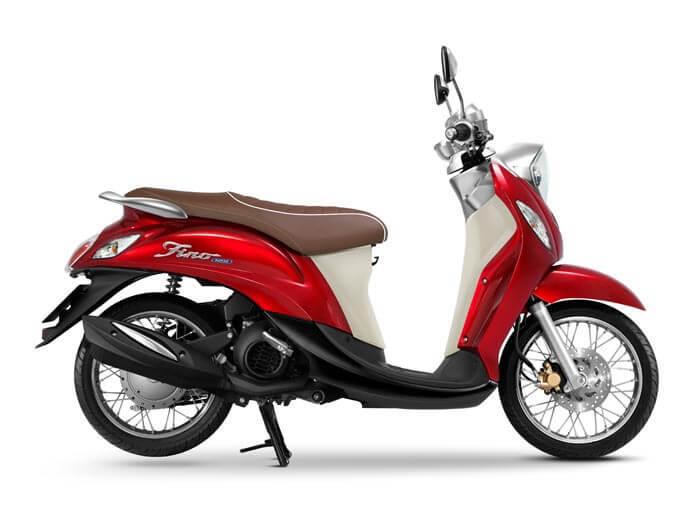motorcycle: (38, 46, 660, 460)
